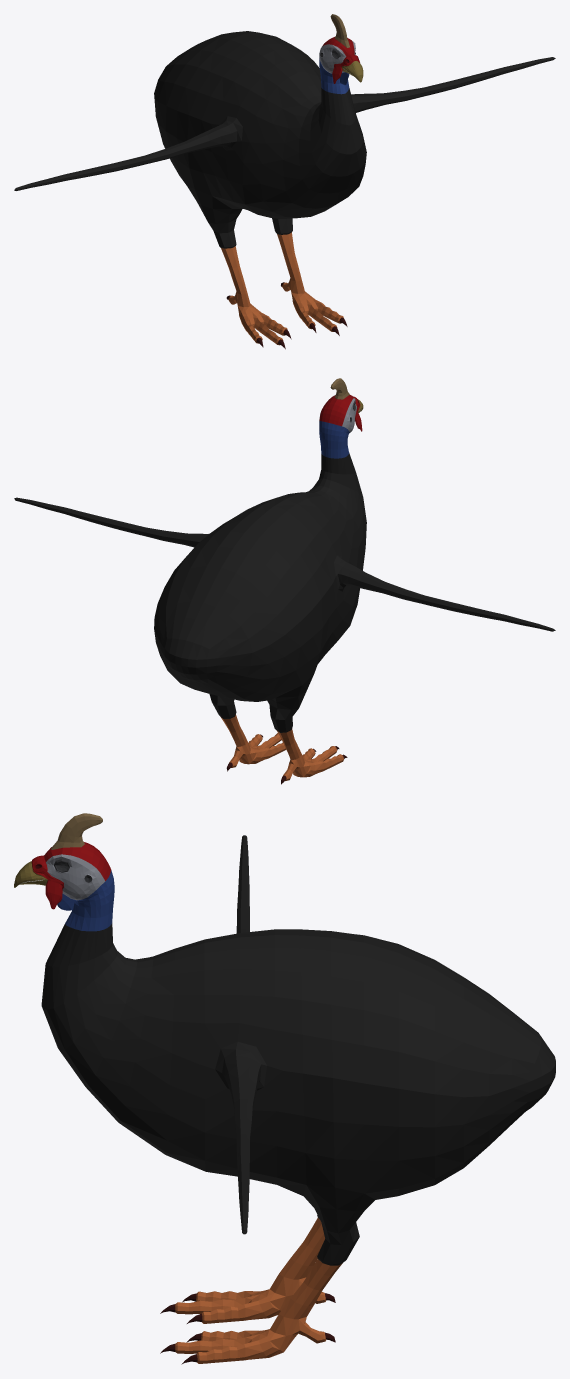
File: guinea_fowl_guinea_fowl_triangulated.obj
3 renders of one model, top to bottom at view 1: azimuth 30°, elevation 25°; view 2: azimuth 150°, elevation 25°; view 3: azimuth 270°, elevation 25°, orthographic. The views are drawn at different scales.
Bounding box in the file's own units: 1.02 × 0.6195 × 0.5844.
